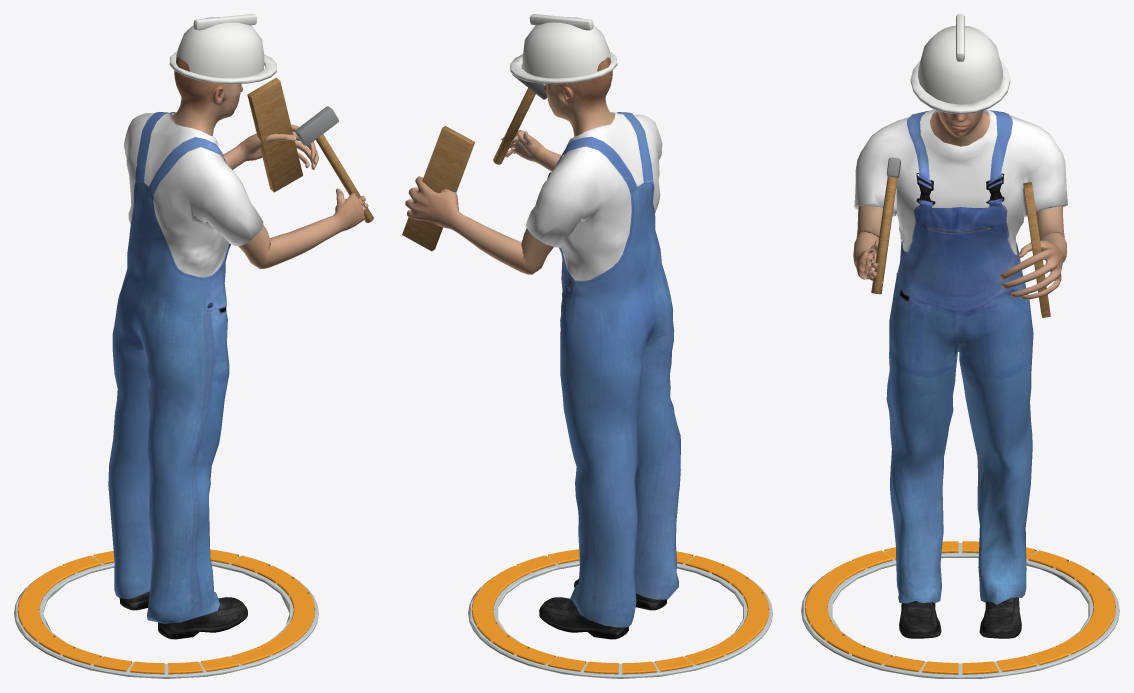
The model's file is MDO-OBR-003_lod1.glb.
The picture shows the model from 3 angles, left to right: view 1: azimuth 30°, elevation 25°; view 2: azimuth 150°, elevation 25°; view 3: azimuth 270°, elevation 25°; orthographic projection. The views are drawn at different scales.
Visible parts, largest first — view 1: MDO-OBR-003_pessoa_male_worksuit01, MDO-OBR-003_pessoa, MDO-OBR-003_capacete, MDO-OBR-003_anel_fundo, MDO-OBR-003_ferE_tabua, MDO-OBR-003_pessoa_shoes04, MDO-OBR-003_capacete_aba, MDO-OBR-003_ferD_cabeca, MDO-OBR-003_ferD_cabo, MDO-OBR-003_capacete_friso; view 2: MDO-OBR-003_pessoa_male_worksuit01, MDO-OBR-003_pessoa, MDO-OBR-003_capacete, MDO-OBR-003_anel_fundo, MDO-OBR-003_ferE_tabua, MDO-OBR-003_pessoa_shoes04, MDO-OBR-003_capacete_aba, MDO-OBR-003_ferD_cabo, MDO-OBR-003_capacete_friso; view 3: MDO-OBR-003_pessoa_male_worksuit01, MDO-OBR-003_pessoa, MDO-OBR-003_capacete, MDO-OBR-003_anel_fundo, MDO-OBR-003_pessoa_shoes04, MDO-OBR-003_capacete_aba, MDO-OBR-003_ferD_cabo, MDO-OBR-003_ferE_tabua.
Part boxes in pixels (box(x1,y1,x2,y2)): MDO-OBR-003_pessoa_male_worksuit01: box(108, 112, 263, 623); MDO-OBR-003_pessoa: box(172, 57, 368, 268); MDO-OBR-003_capacete: box(176, 17, 264, 78); MDO-OBR-003_anel_fundo: box(14, 556, 318, 678); MDO-OBR-003_ferE_tabua: box(247, 77, 302, 192); MDO-OBR-003_pessoa_shoes04: box(119, 591, 247, 639); MDO-OBR-003_capacete_aba: box(169, 51, 276, 84); MDO-OBR-003_ferD_cabeca: box(295, 106, 338, 145); MDO-OBR-003_ferD_cabo: box(316, 134, 373, 222); MDO-OBR-003_capacete_friso: box(193, 14, 257, 30); MDO-OBR-003_pessoa_male_worksuit01: box(525, 112, 680, 627); MDO-OBR-003_pessoa: box(405, 57, 614, 274); MDO-OBR-003_capacete: box(522, 17, 610, 78); MDO-OBR-003_anel_fundo: box(468, 556, 772, 678); MDO-OBR-003_ferE_tabua: box(402, 126, 474, 251); MDO-OBR-003_pessoa_shoes04: box(539, 578, 667, 639); MDO-OBR-003_capacete_aba: box(510, 51, 617, 84); MDO-OBR-003_ferD_cabo: box(493, 88, 535, 164); MDO-OBR-003_capacete_friso: box(529, 14, 593, 30); MDO-OBR-003_pessoa_male_worksuit01: box(854, 109, 1067, 604); MDO-OBR-003_pessoa: box(853, 110, 1066, 299); MDO-OBR-003_capacete: box(917, 25, 1003, 104); MDO-OBR-003_anel_fundo: box(801, 543, 1119, 678); MDO-OBR-003_pessoa_shoes04: box(899, 597, 1021, 638); MDO-OBR-003_capacete_aba: box(910, 60, 1010, 114); MDO-OBR-003_ferD_cabo: box(871, 176, 897, 294); MDO-OBR-003_ferE_tabua: box(1023, 182, 1050, 317).
Size of the model in its own units: 0.9869 by 1.79 by 0.84.
Materials: 10 (6 with a texture image).
